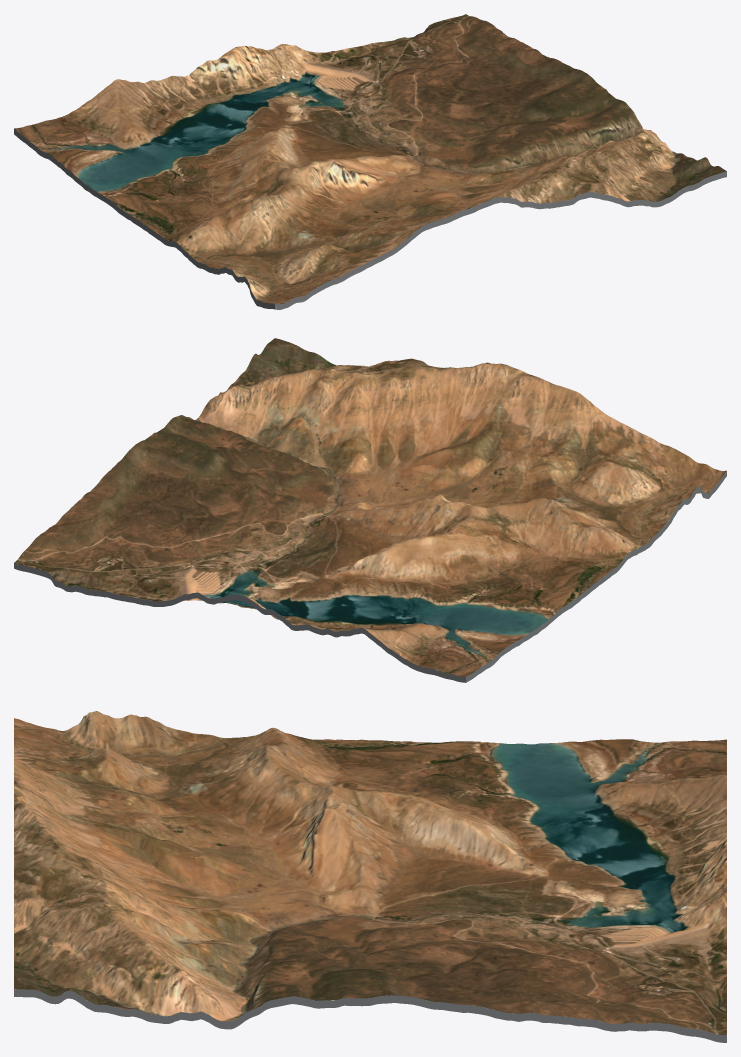
3 views of the same model, one above another, from view 1: azimuth 30°, elevation 25°; view 2: azimuth 150°, elevation 25°; view 3: azimuth 270°, elevation 25° (orthographic). The views are drawn at different scales.
Parts seen in each view (by area): view 1: terrain, skirt; view 2: terrain, skirt; view 3: terrain, skirt.
Part boxes in pixels (<box>): terrain: <box>14,14,726,304</box>; skirt: <box>14,129,726,309</box>; terrain: <box>14,338,726,677</box>; skirt: <box>14,471,726,682</box>; terrain: <box>14,711,726,1035</box>; skirt: <box>14,989,726,1042</box>.
Bounding box in the file's own units: 7500 × 1267 × 7500.
1 material, 1 textured.
